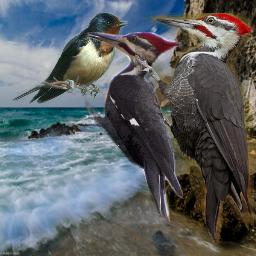Swallow: (12, 12, 128, 104)
Woodpecker: (135, 13, 254, 247), (85, 32, 184, 222)
